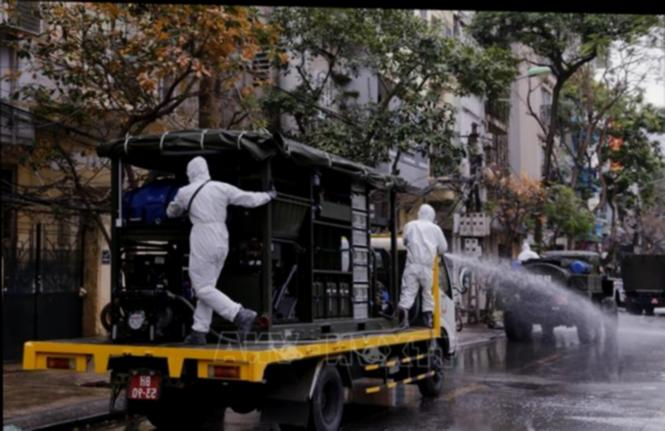License_Plate: (125, 372, 165, 406)
